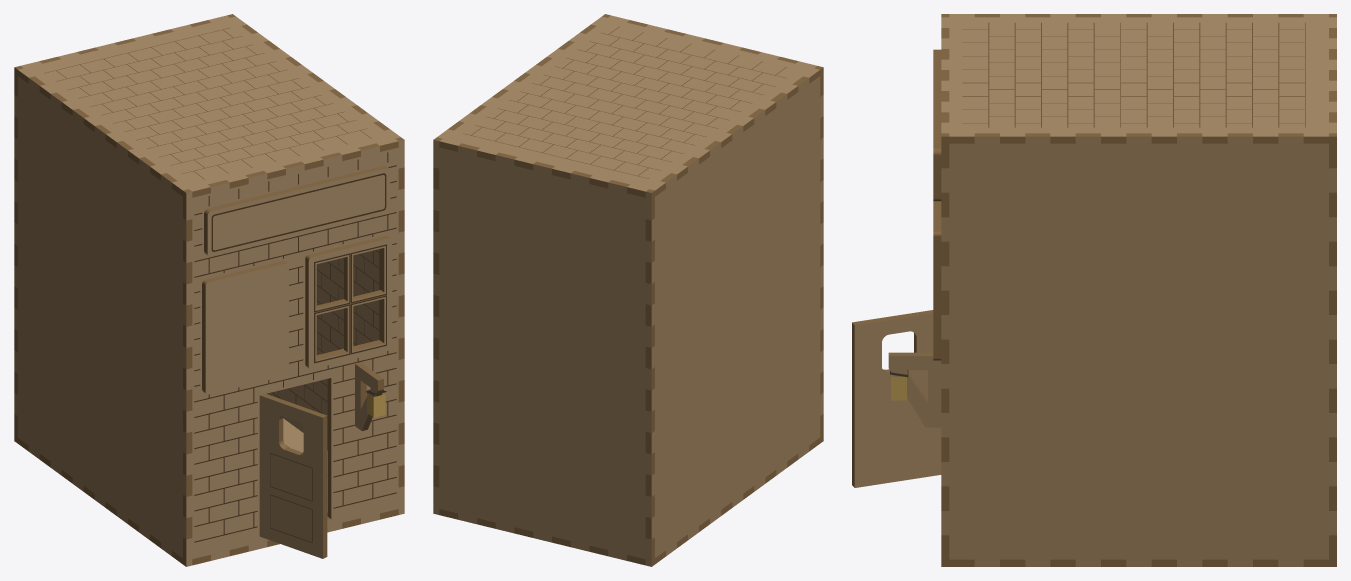
Rendered from nook.glb.
The picture shows the model from 3 angles, left to right: view 1: azimuth 30°, elevation 25°; view 2: azimuth 150°, elevation 25°; view 3: azimuth 270°, elevation 25°; orthographic projection. The views are drawn at different scales.
Visible parts, largest first — view 1: left-wall, shop-front, roof, left-window, door, shop-sign, right-wall, right-window, shop-front-engraving, roof-score, sign-and-window-engraving, back-wall (+4 smaller); view 2: back-wall, left-wall, roof, roof-score, right-wall, base, shop-front; view 3: right-wall, roof, door, roof-score, shop-front, lamp-bracket, back-wall, base, right-window, shop-sign, left-wall.
Boxes of the visible parts, x1,y1,x2,y2 form: left-wall: [14, 76, 192, 557]; shop-front: [183, 137, 404, 566]; roof: [17, 15, 400, 197]; left-window: [202, 261, 288, 394]; door: [259, 394, 327, 558]; shop-sign: [204, 166, 390, 256]; right-wall: [241, 24, 404, 487]; right-window: [305, 235, 392, 369]; shop-front-engraving: [194, 152, 396, 542]; roof-score: [44, 27, 371, 179]; sign-and-window-engraving: [211, 173, 386, 363]; back-wall: [14, 14, 235, 443]; back-wall: [433, 137, 654, 566]; left-wall: [645, 76, 823, 557]; roof: [437, 15, 820, 197]; roof-score: [463, 26, 786, 178]; right-wall: [433, 24, 596, 487]; base: [439, 437, 820, 565]; shop-front: [602, 14, 823, 443]; right-wall: [941, 133, 1336, 566]; roof: [941, 14, 1336, 143]; door: [852, 310, 941, 487]; roof-score: [962, 22, 1305, 127]; shop-front: [941, 14, 949, 566]; lamp-bracket: [888, 352, 941, 427]; back-wall: [1329, 14, 1336, 566]; base: [949, 559, 1328, 566]; right-window: [933, 201, 941, 360]; shop-sign: [933, 49, 941, 201]; left-wall: [974, 14, 1303, 17].
Bounding box in the file's own units: 110 × 180 × 184.
